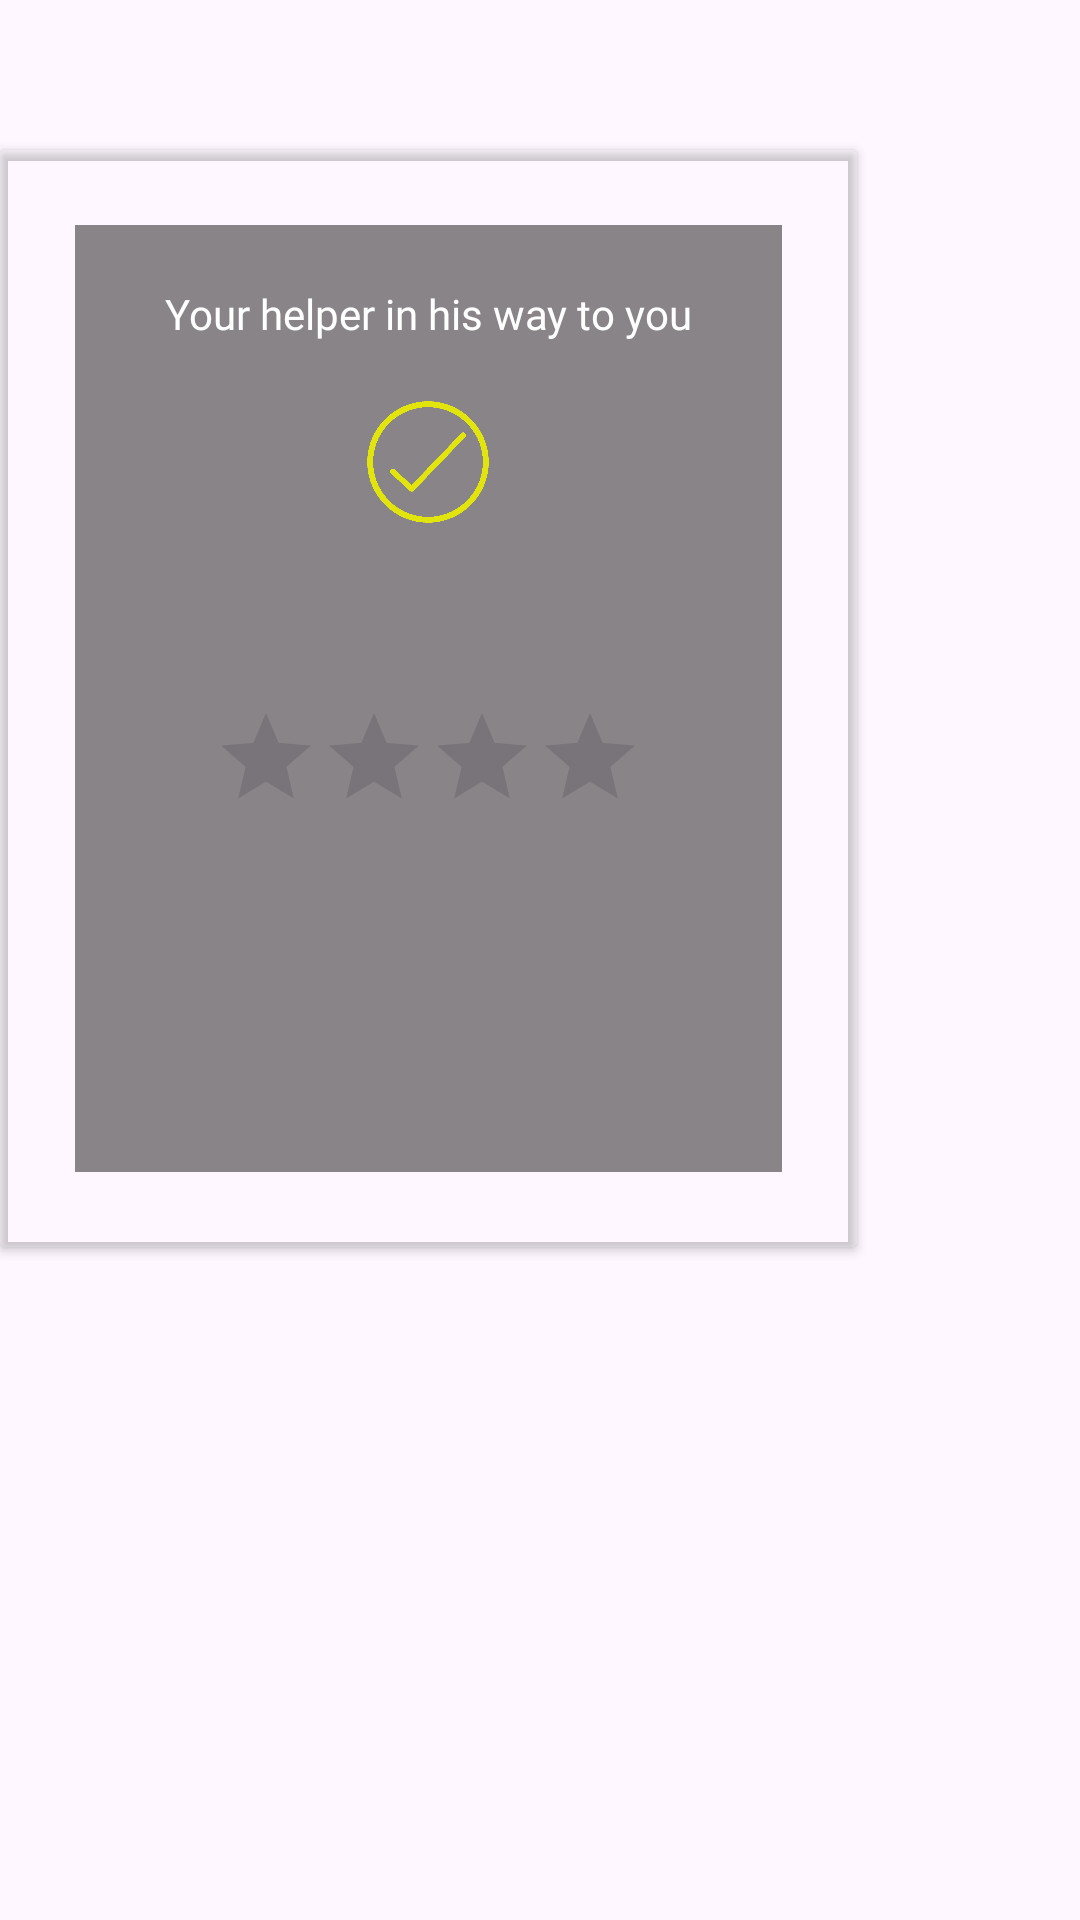

Where to tap for icons on this 1080px×1920px app screen, as [x,y]:
tick: [428,462]
